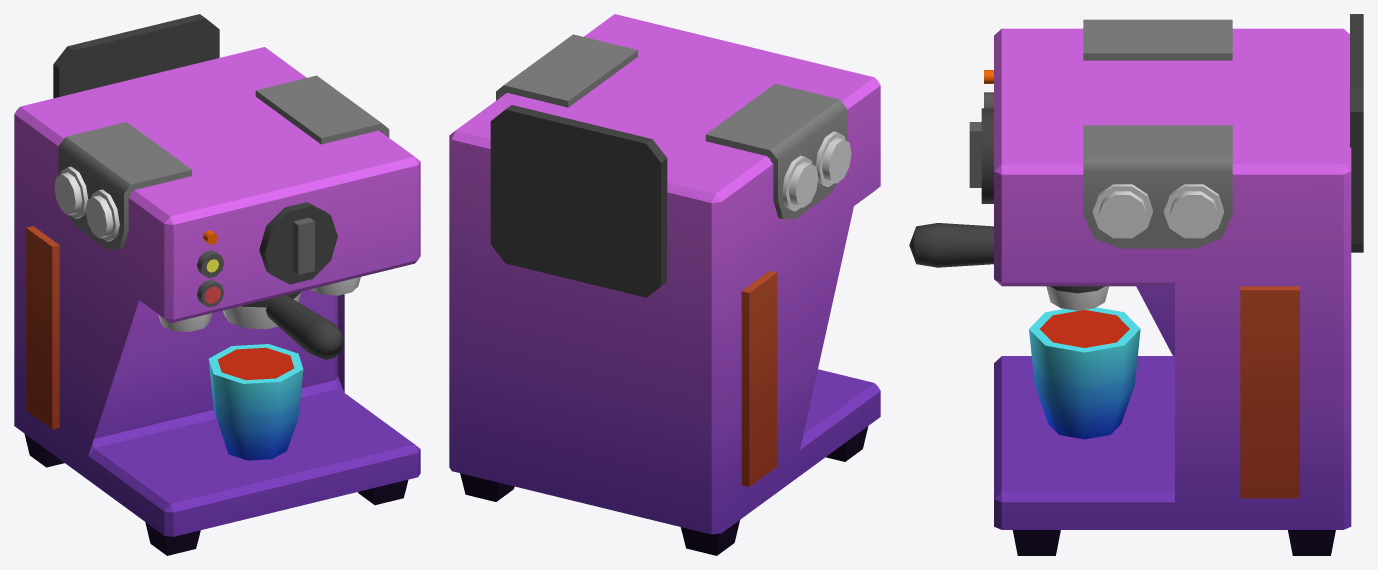
File: Decor_Mayphache.fbx
3 views of the same model, side by side, from view 1: azimuth 30°, elevation 25°; view 2: azimuth 150°, elevation 25°; view 3: azimuth 270°, elevation 25° (orthographic). The views are drawn at different scales.
Visible parts, largest first — view 1: Decor_Mayphache; view 2: Decor_Mayphache; view 3: Decor_Mayphache.
Boxes of the visible parts, left/top/right/bottom form: Decor_Mayphache: left=14, top=14, right=420, bottom=555; Decor_Mayphache: left=449, top=14, right=880, bottom=555; Decor_Mayphache: left=909, top=14, right=1363, bottom=555.
Bounding box in the file's own units: 95.1 × 122 × 115.
